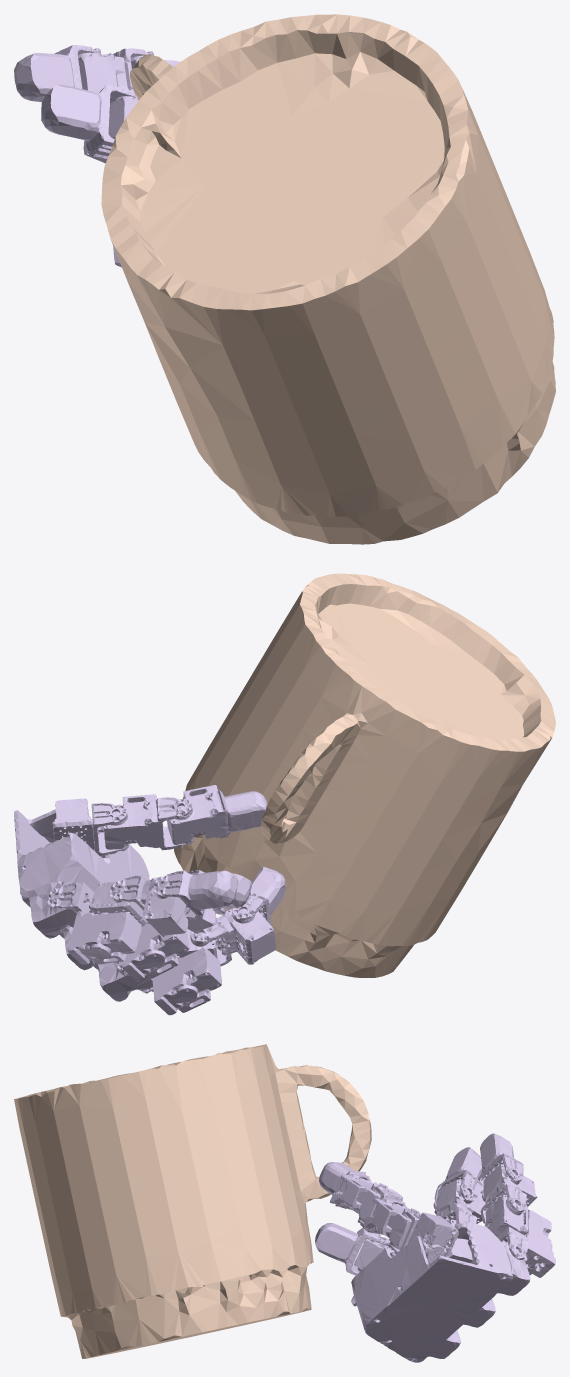
The model's file is ec2f67ecf7de43-closed.glb.
The picture shows the model from 3 angles, top to bottom: view 1: azimuth 30°, elevation 25°; view 2: azimuth 150°, elevation 25°; view 3: azimuth 270°, elevation 25°; orthographic projection. The views are drawn at different scales.
Visible parts, largest first — view 1: world, LEAP_hand; view 2: world, LEAP_hand; view 3: world, LEAP_hand.
Boxes of the visible parts, bbox=[...] form: world: bbox=[101, 14, 555, 544]; LEAP_hand: bbox=[14, 45, 180, 267]; world: bbox=[174, 573, 555, 977]; LEAP_hand: bbox=[14, 785, 285, 1015]; world: bbox=[14, 1044, 371, 1358]; LEAP_hand: bbox=[315, 1133, 555, 1362].
Size of the model in its own units: 0.2969 by 0.2807 by 0.4316.
